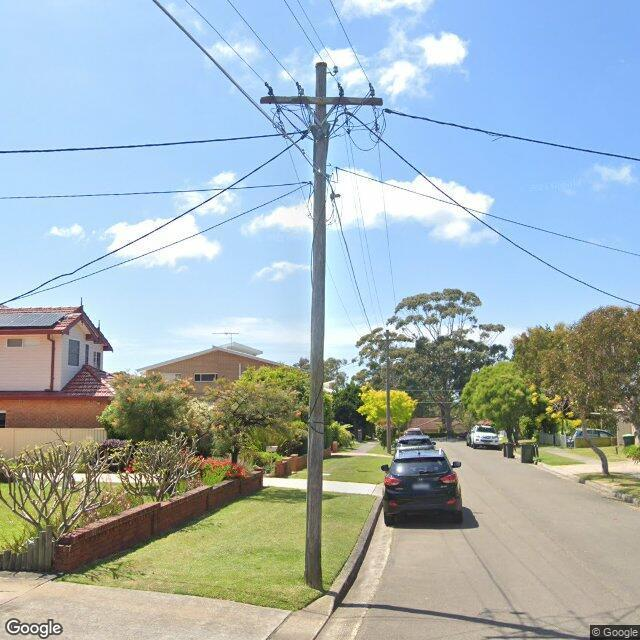crossarm: (260, 95, 383, 106), (368, 338, 403, 342)
timber-pole: (303, 61, 328, 588), (386, 328, 390, 454)
